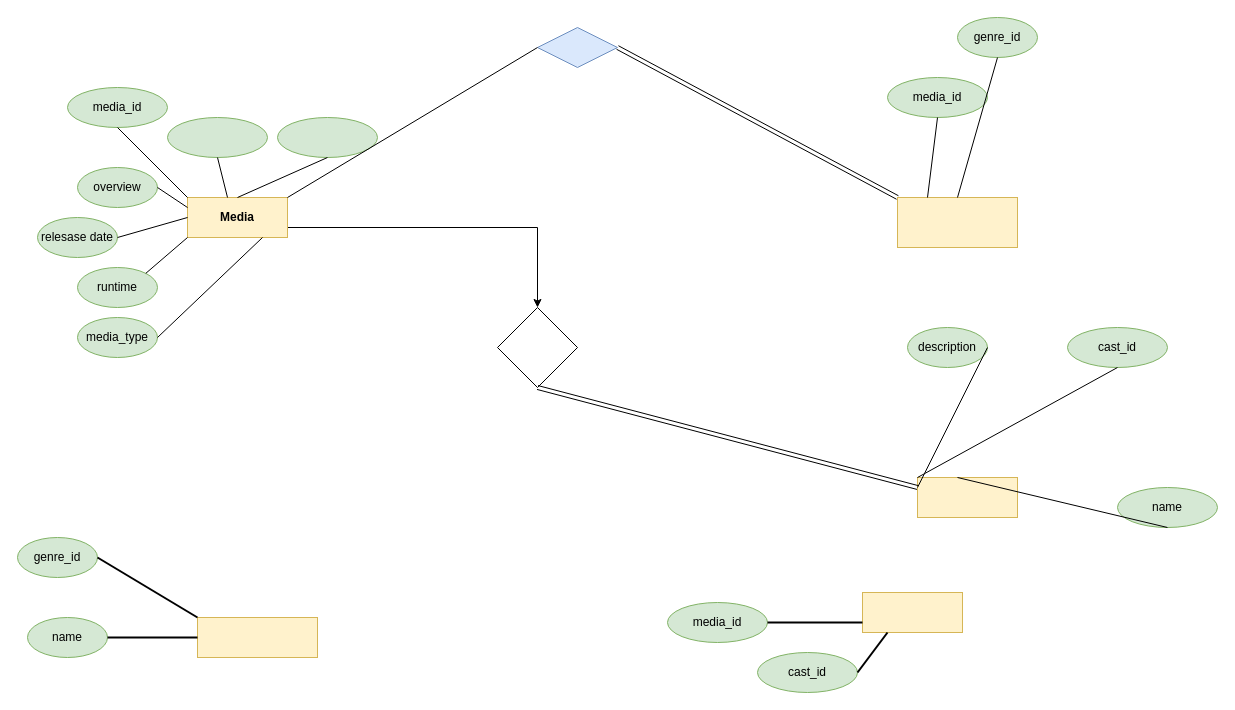
Image size: 1235x710. Some labels were removed from this diagram. The centre of each missing label's shape, as x and y in pixels:
actor: [537,347]
cast: [967,497]
Genre: [257,637]
media_cast: [912,612]
media_Genre: [957,222]
movie_or_tv: [577,47]
role: [327,137]
title: [217,137]
